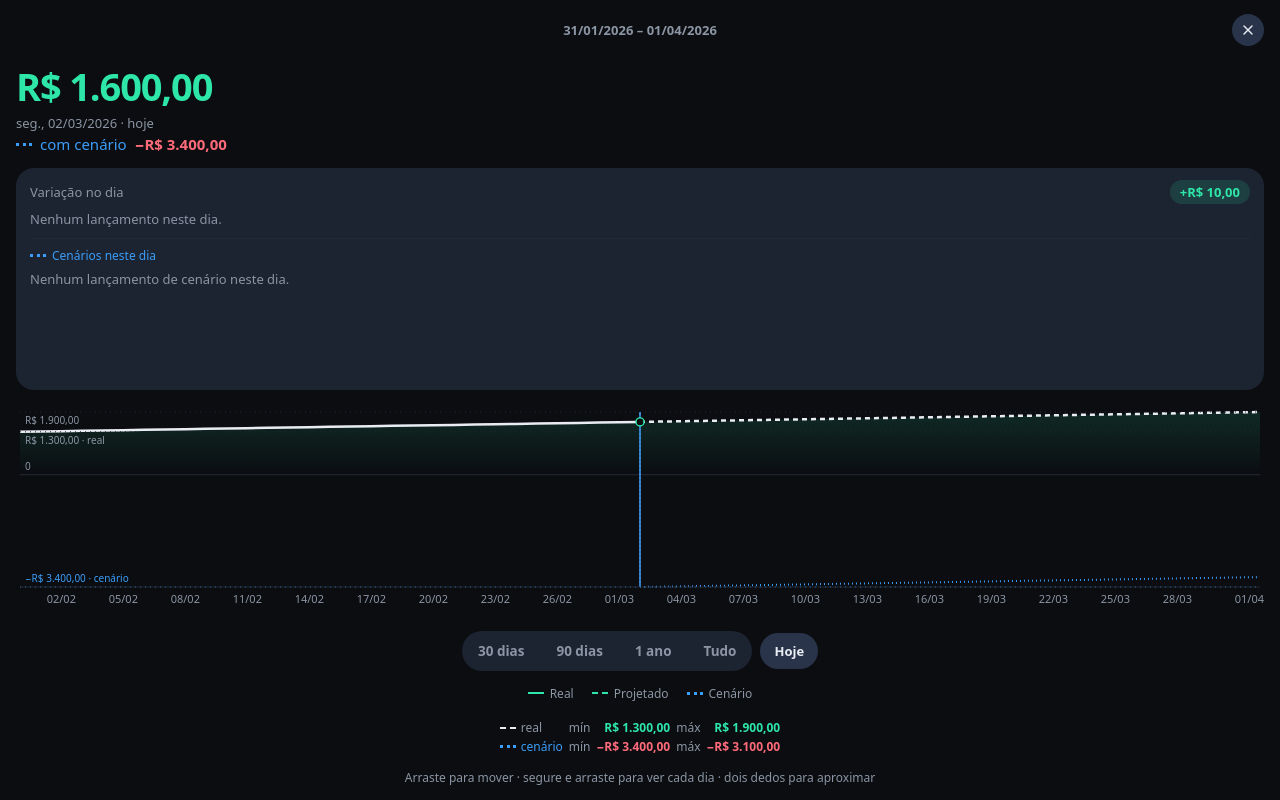
Test: FluxoChartModal — leitura do dia com cenário › o cartão lista só o real; os itens de cenário vão para a seção própria, com o nome do cenário
Press the mouse on the element with test id "grafico-expandido-area" at (640, 510), box x1=16 y1=404 x2=1264 y2=616
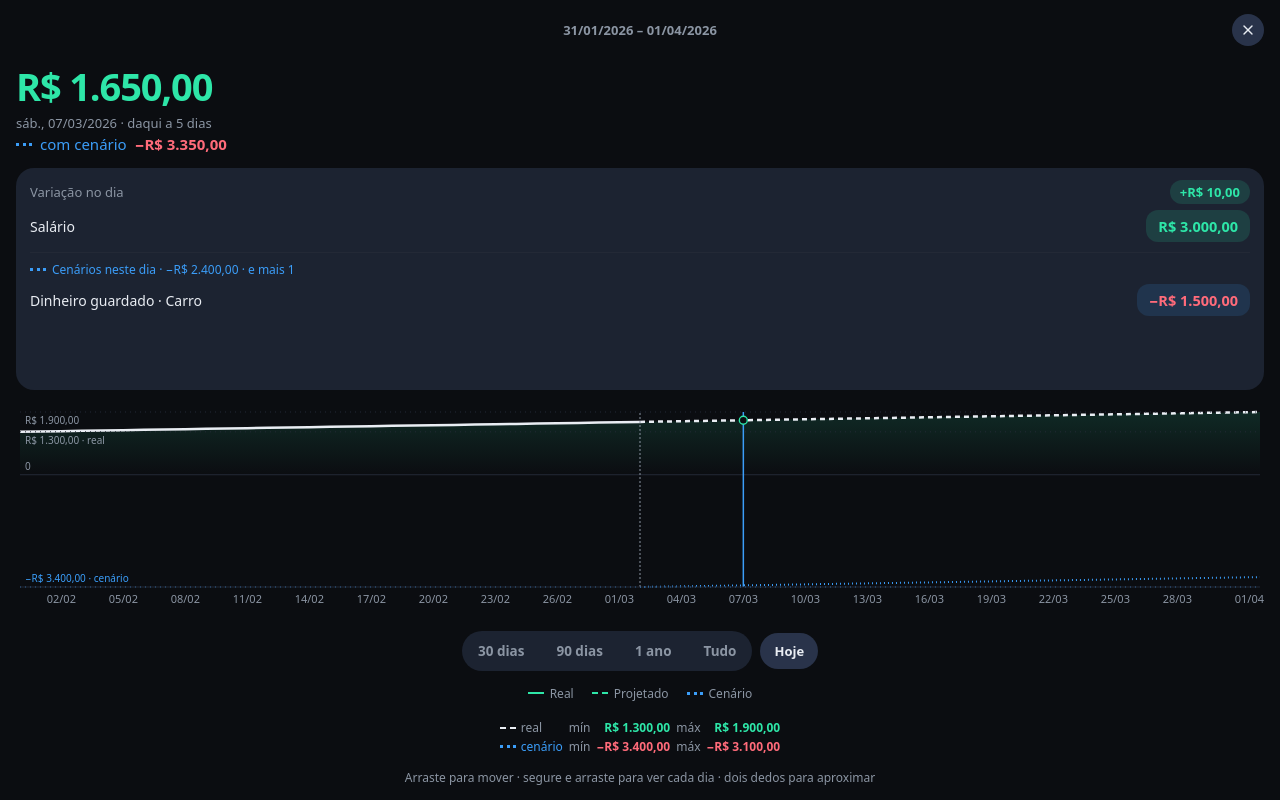
Expected: the element with test id "grafico-expandido-cenarios" does not show "Salário", x1=30 y1=252 x2=1250 y2=316
Result: the element with test id "grafico-expandido-dia" shows "Salário" at x1=30 y1=216 x2=75 y2=236
Result: the element with test id "grafico-expandido-cenarios" shows "Dinheiro guardado · Carro" at x1=30 y1=252 x2=1250 y2=316
